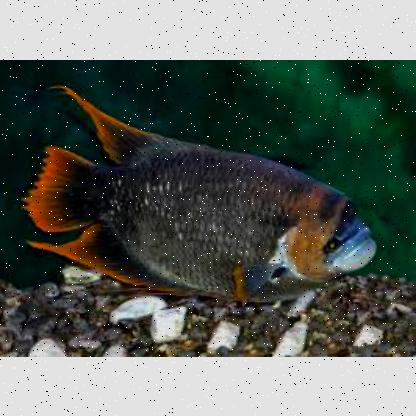gurame: (36, 110, 380, 302)
